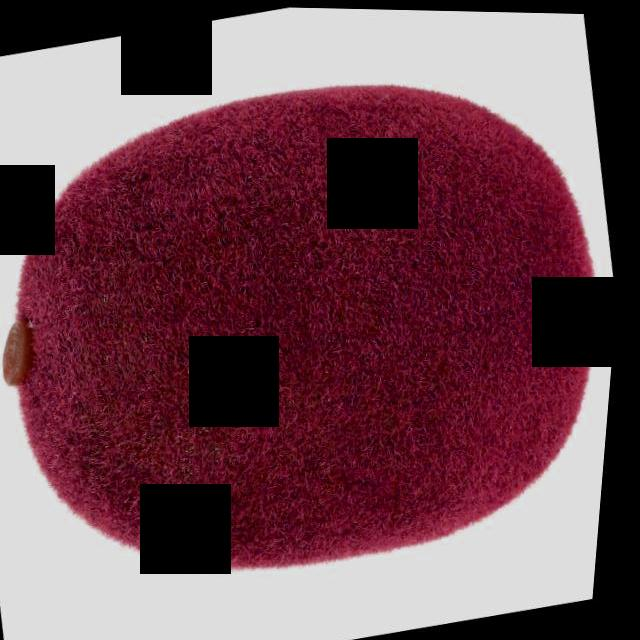kiwi: (1, 25, 638, 628)
